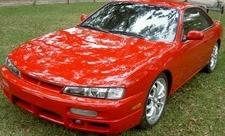front_view: (0, 51, 143, 121)
headlight: (66, 75, 135, 109)
side_glass: (167, 4, 221, 36)
